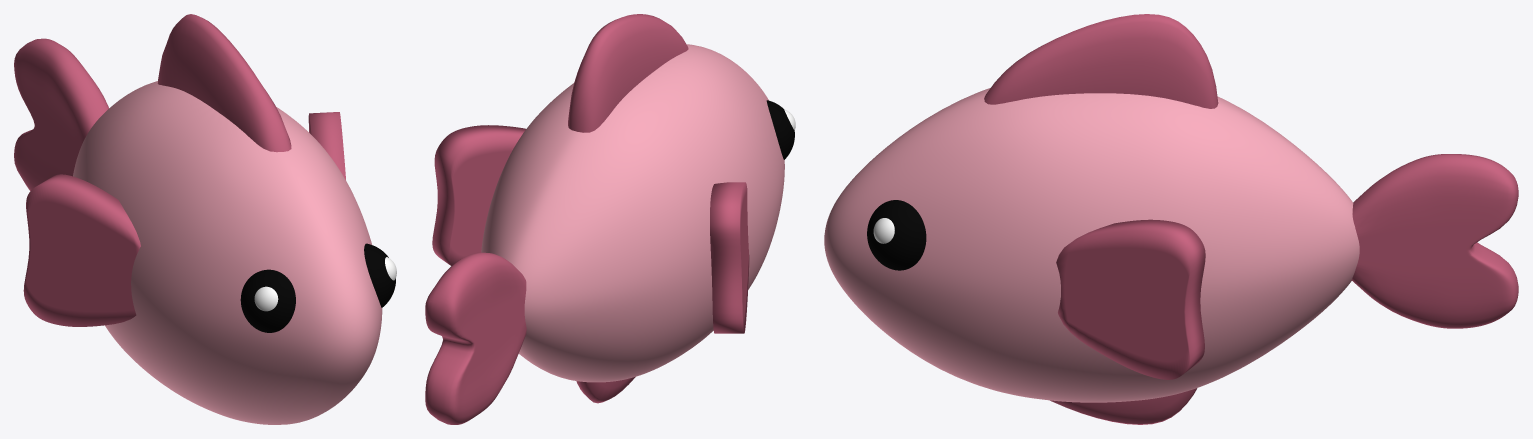
File: fish1_pink.glb
3 renders of one model, left to right at view 1: azimuth 30°, elevation 25°; view 2: azimuth 150°, elevation 25°; view 3: azimuth 270°, elevation 25°, orthographic. The views are drawn at different scales.
Visible parts, largest first — view 1: body, wing, tail_cube, uprumi, eye, whiteeye; view 2: body, wing, tail_cube, uprumi, eye, underrumi; view 3: body, tail_cube, wing, uprumi, eye, underrumi.
Part boxes in pixels (x1,y1,x2,y2): body: [73, 81, 382, 424]; wing: [23, 112, 345, 326]; tail_cube: [14, 38, 109, 190]; uprumi: [157, 14, 291, 152]; eye: [240, 243, 395, 332]; whiteeye: [254, 257, 396, 311]; body: [481, 44, 784, 382]; wing: [432, 125, 749, 333]; tail_cube: [425, 252, 526, 424]; uprumi: [568, 14, 688, 132]; eye: [766, 100, 794, 159]; underrumi: [576, 377, 635, 403]; body: [824, 88, 1359, 402]; tail_cube: [1351, 154, 1518, 328]; wing: [1056, 219, 1205, 379]; uprumi: [984, 14, 1218, 108]; eye: [867, 200, 926, 270]; underrumi: [1050, 388, 1197, 424].
Bounding box in the file's own units: 0.7534 × 0.8762 × 1.35.
